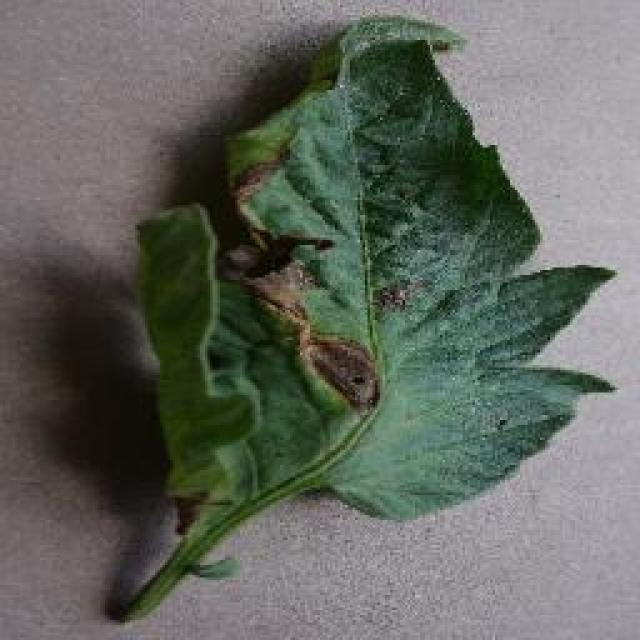Tomato Early blight leaf: (104, 15, 594, 615)
